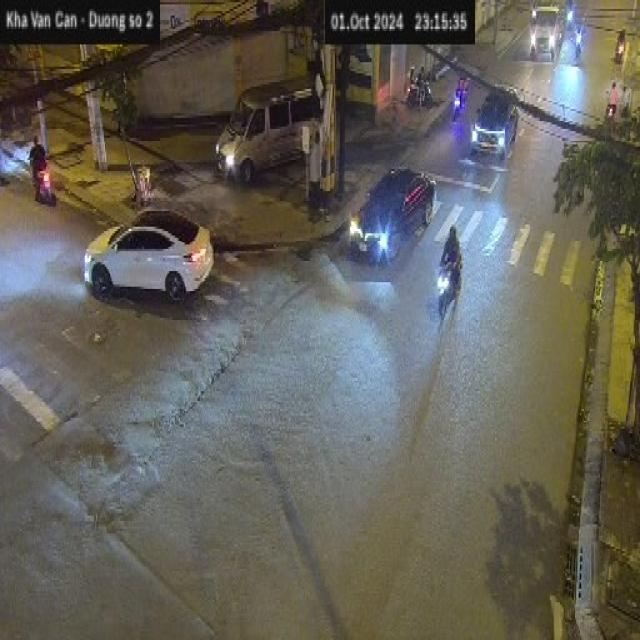car: (82, 207, 214, 302), (349, 164, 436, 264), (470, 89, 518, 158)
motorcycle: (436, 258, 462, 318)
